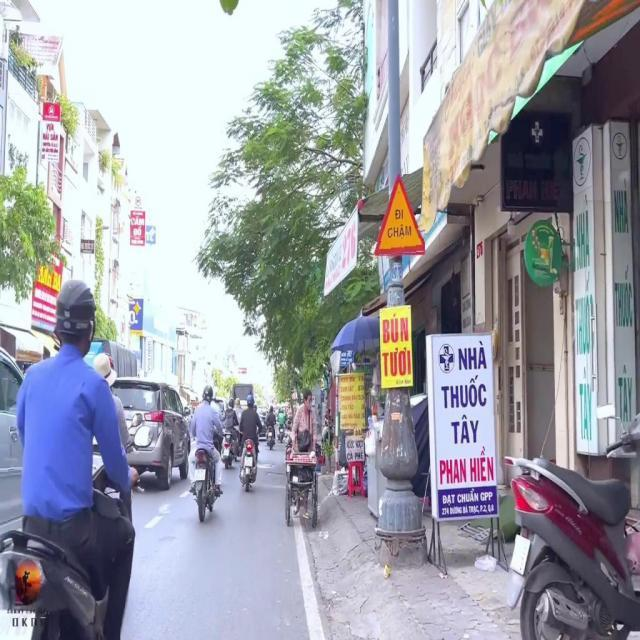245-di-cham: (372, 174, 426, 254)
